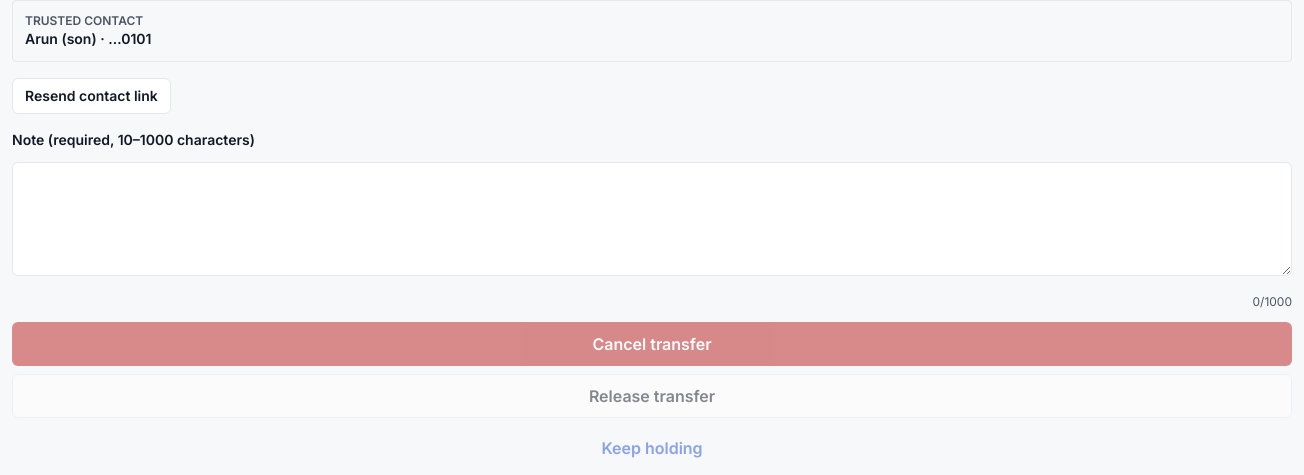
Test: DecisionPanel (T-034) › keeps decision buttons disabled until the note has 10 characters
Expected: the button "Cancel transfer" is disabled, [12,322,1292,366]
Type "too short" into the text box labelled "Note (required, 10–1000 characters)" at [652, 219], box [12,162,1292,276]
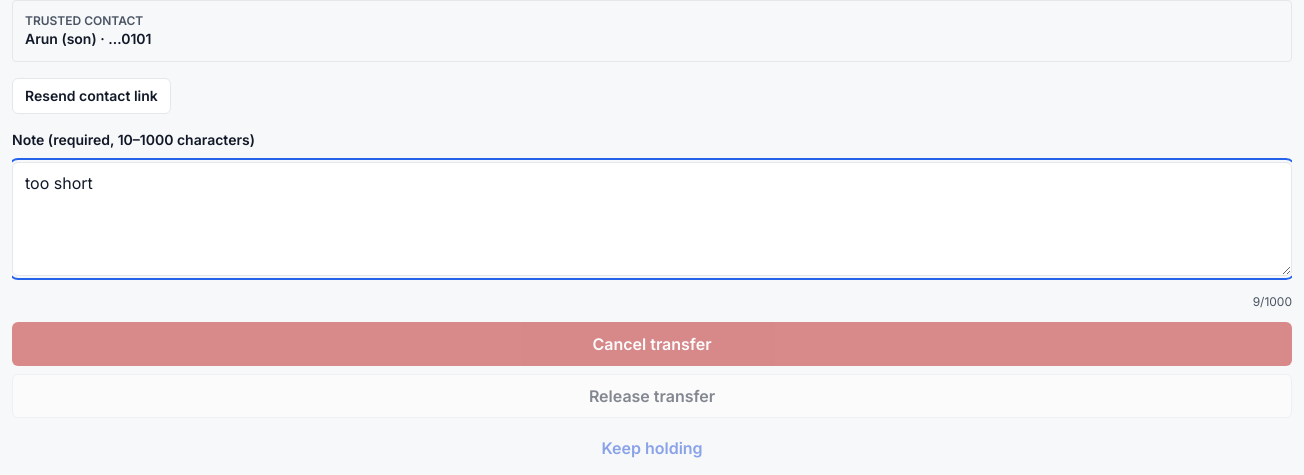
Expected: the button "Cancel transfer" is disabled, [12,322,1292,366]
Type "!!" into the text box labelled "Note (required, 10–1000 characters)" at [652, 219], box [12,162,1292,276]
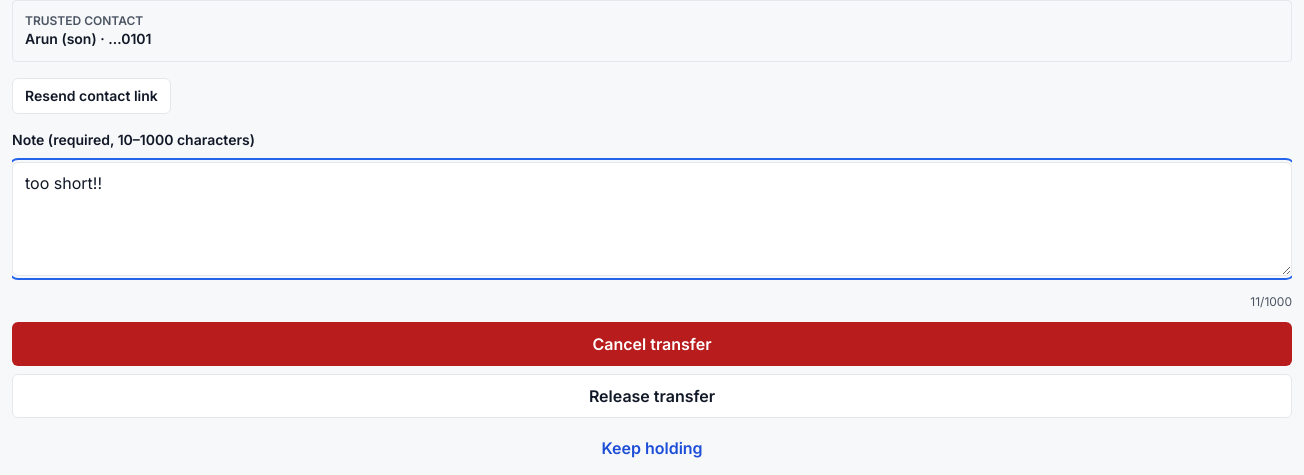
Expected: the button "Cancel transfer" is enabled, [12,322,1292,366]
